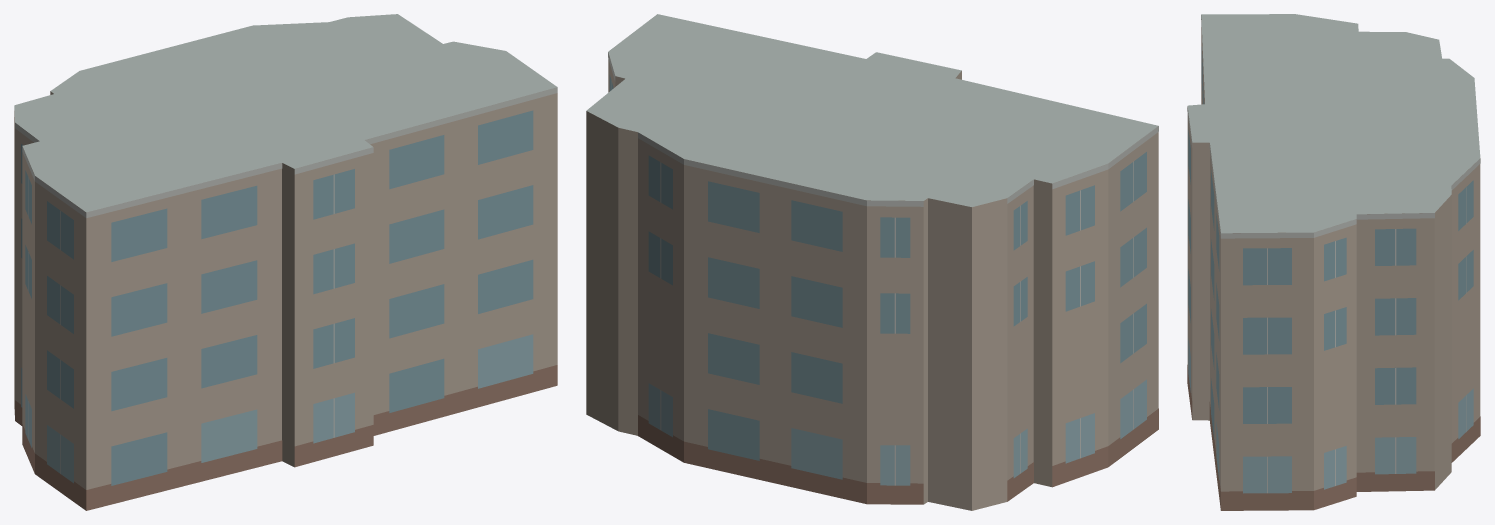
Rendered from survey-upis-32757458.glb.
3 views of the same model, side by side, from view 1: azimuth 30°, elevation 25°; view 2: azimuth 150°, elevation 25°; view 3: azimuth 270°, elevation 25° (orthographic). The views are drawn at different scales.
Visible parts, largest first — view 1: survey-upis-32757458.tmp; view 2: survey-upis-32757458.tmp; view 3: survey-upis-32757458.tmp.
Boxes of the visible parts, x1,y1,x2,y2 form: survey-upis-32757458.tmp: (14, 14, 557, 510); survey-upis-32757458.tmp: (586, 14, 1158, 510); survey-upis-32757458.tmp: (1187, 14, 1480, 510).
Bounding box in the file's own units: 21.34 × 12.6 × 12.06.
